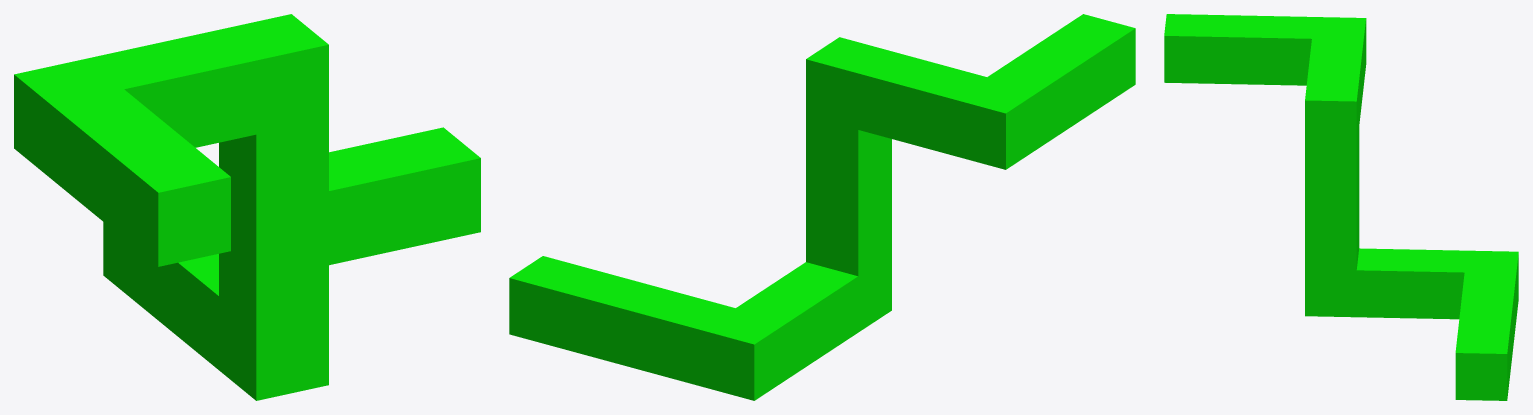
Rendered from Twistycooler_robot.dae.
The picture shows the model from 3 angles, left to right: view 1: azimuth 30°, elevation 25°; view 2: azimuth 150°, elevation 25°; view 3: azimuth 270°, elevation 25°; orthographic projection. The views are drawn at different scales.
Parts seen in each view (by area): view 1: skp8263, group_0 (×2); view 2: skp8263, group_0; view 3: skp8263, group_0 (×2).
Boxes of the visible parts, x1,y1,x2,y2 form: skp8263: [103, 14, 480, 400]; group_0 (×2): [14, 30, 256, 266]; skp8263: [509, 37, 891, 400]; group_0: [858, 14, 1135, 169]; skp8263: [1305, 78, 1518, 400]; group_0 (×2): [1164, 14, 1366, 123].
Size of the model in its own units: 91.92 by 80.45 by 54.
